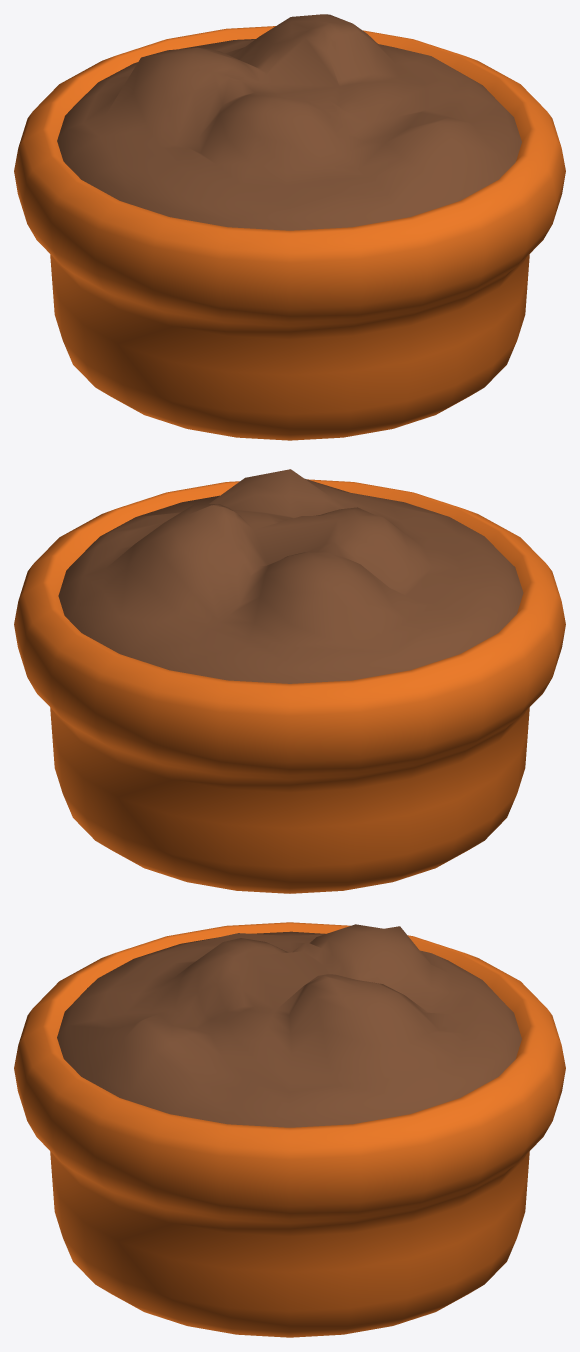
The model's file is pot_terracotta.glb.
The picture shows the model from 3 angles, top to bottom: view 1: azimuth 30°, elevation 25°; view 2: azimuth 150°, elevation 25°; view 3: azimuth 270°, elevation 25°; orthographic projection.
Parts seen in each view (by area): view 1: terracotta_花盆.001, terracotta_泥土.007; view 2: terracotta_花盆.001, terracotta_泥土.007; view 3: terracotta_花盆.001, terracotta_泥土.007.
Boxes of the visible parts, x1,y1,x2,y2 form: terracotta_花盆.001: [14, 26, 565, 440]; terracotta_泥土.007: [57, 14, 521, 230]; terracotta_花盆.001: [14, 479, 565, 893]; terracotta_泥土.007: [58, 469, 523, 683]; terracotta_花盆.001: [14, 922, 565, 1337]; terracotta_泥土.007: [57, 924, 521, 1127].
Bounding box in the file's own units: 0.8476 × 0.538 × 0.8476.
